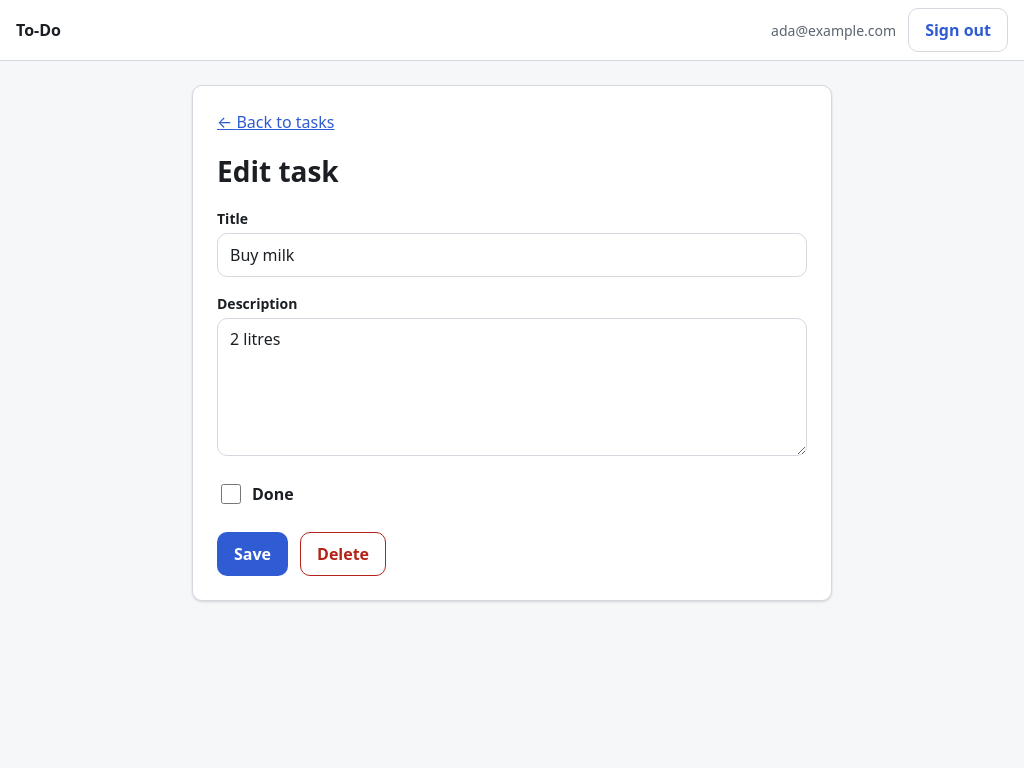
Test: TaskDetailPage › deletes the task after confirmation and returns to the list
expect the field labelled "Title" is shown: met, box x1=217 y1=233 x2=807 y2=277
Click the button "Delete": (343, 554) x1=300 y1=532 x2=386 y2=576
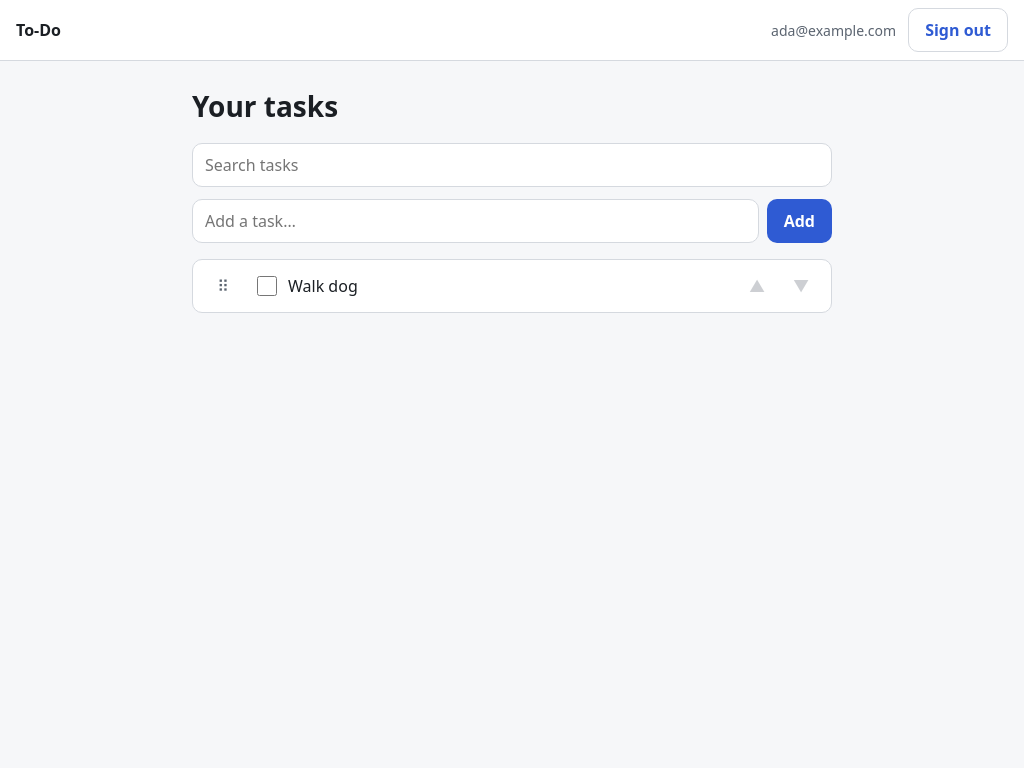
expect the heading "Your tasks" is shown: met, box x1=192 y1=87 x2=338 y2=125
